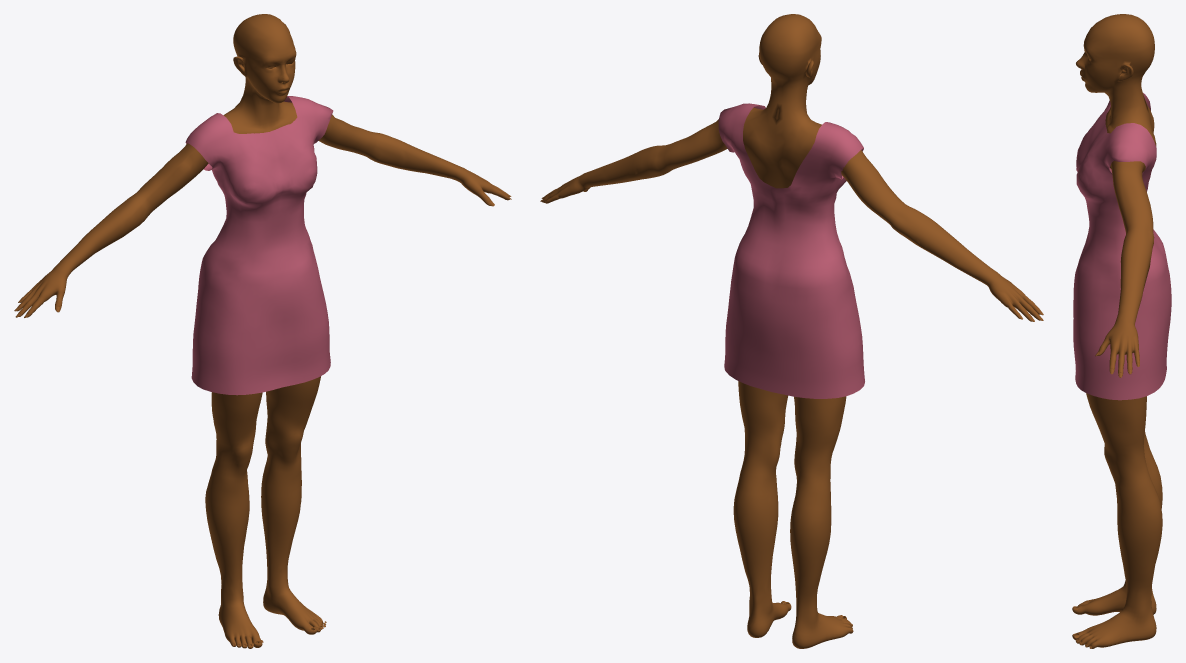
File: dress7.glb
3 renders of one model, left to right at view 1: azimuth 30°, elevation 25°; view 2: azimuth 150°, elevation 25°; view 3: azimuth 270°, elevation 25°, orthographic.
Visible parts, largest first — view 1: Body, Jennifer.F_Dress_01; view 2: Body, Jennifer.F_Dress_01; view 3: Body, Jennifer.F_Dress_01.
Part boxes in pixels (box(x1,y1,x2,y2)): Body: box(17, 14, 511, 648); Jennifer.F_Dress_01: box(185, 96, 333, 395); Body: box(541, 14, 1041, 648); Jennifer.F_Dress_01: box(718, 103, 864, 398); Body: box(1072, 14, 1162, 648); Jennifer.F_Dress_01: box(1073, 93, 1171, 400).
Size of the model in its own units: 1.58 by 1.85 by 0.2723.
